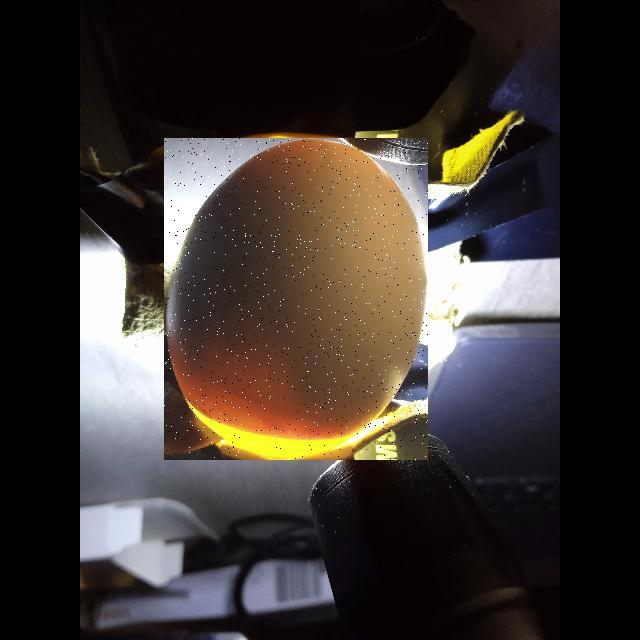Fertile: (164, 138, 428, 460)
